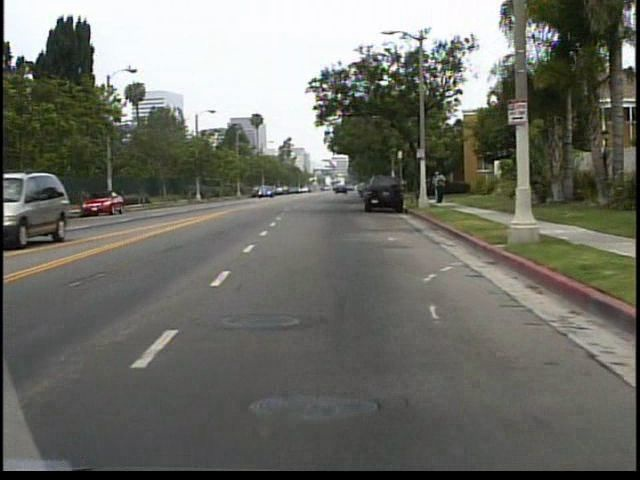person: (432, 169, 447, 208), (436, 171, 448, 205)
